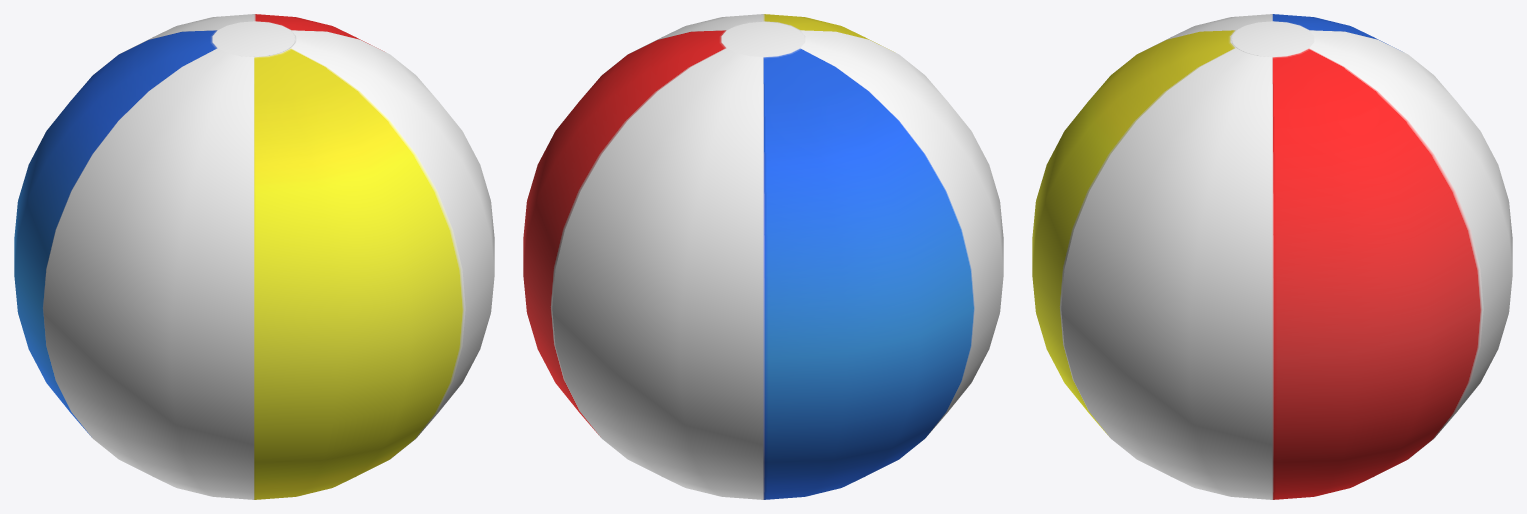
Rendered from beach_ball.fbx.
3 views of the same model, side by side, from view 1: azimuth 30°, elevation 25°; view 2: azimuth 150°, elevation 25°; view 3: azimuth 270°, elevation 25° (orthographic).
Parts seen in each view (by area): view 1: beach_ball_mesh; view 2: beach_ball_mesh; view 3: beach_ball_mesh.
Boxes of the visible parts, x1,y1,x2,y2 form: beach_ball_mesh: (14, 14, 494, 499); beach_ball_mesh: (523, 14, 1003, 499); beach_ball_mesh: (1032, 14, 1512, 499).
Bounding box in the file's own units: 0.7133 × 0.7133 × 0.7025.
